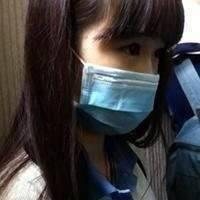OK: (70, 28, 172, 130)
